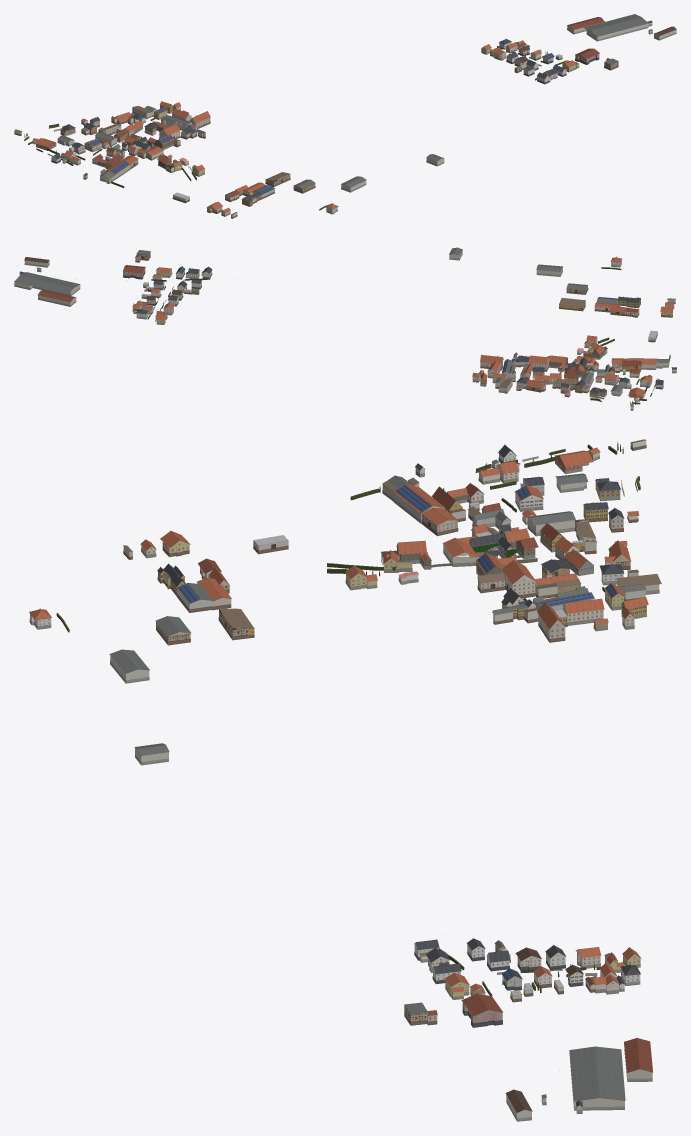
Rendered from village_south.glb.
3 views of the same model, one above another, from view 1: azimuth 30°, elevation 25°; view 2: azimuth 150°, elevation 25°; view 3: azimuth 270°, elevation 25° (orthographic). The views are drawn at different scales.
Parts seen in each view (by area): view 1: village_south; view 2: village_south; view 3: village_south.
Part boxes in pixels (x1,y1,x2,y2): village_south: (14,14,676,218); village_south: (14,247,676,410); village_south: (29,439,661,1121).
Bounding box in the file's own units: 919 × 51.8 × 398.
Materials: 46 (40 with a texture image).
